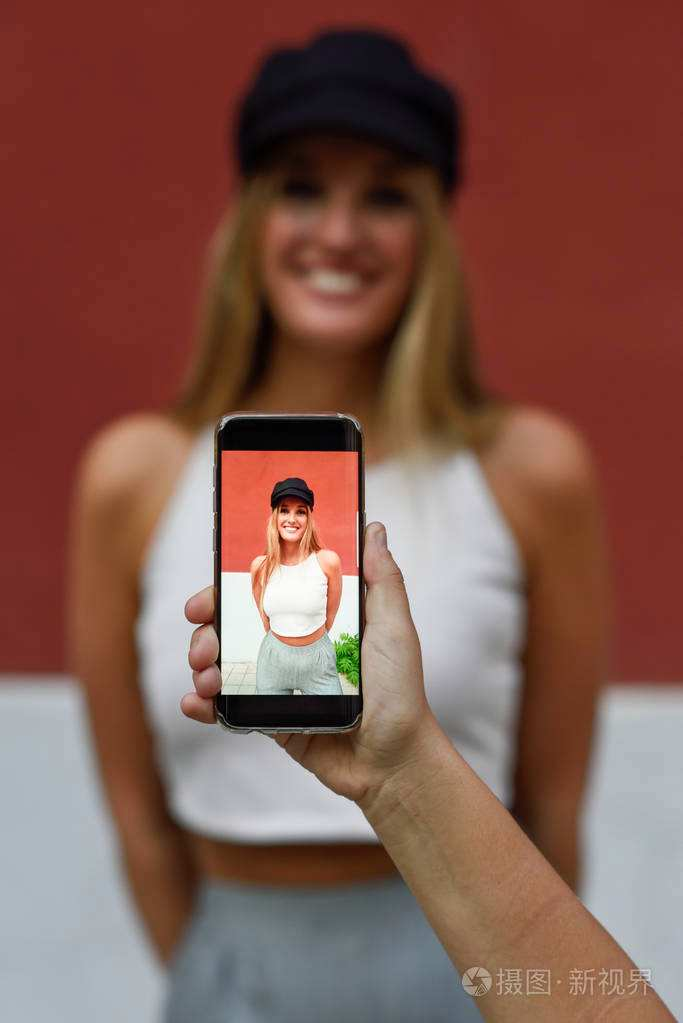taking photos: (174, 406, 447, 819)
